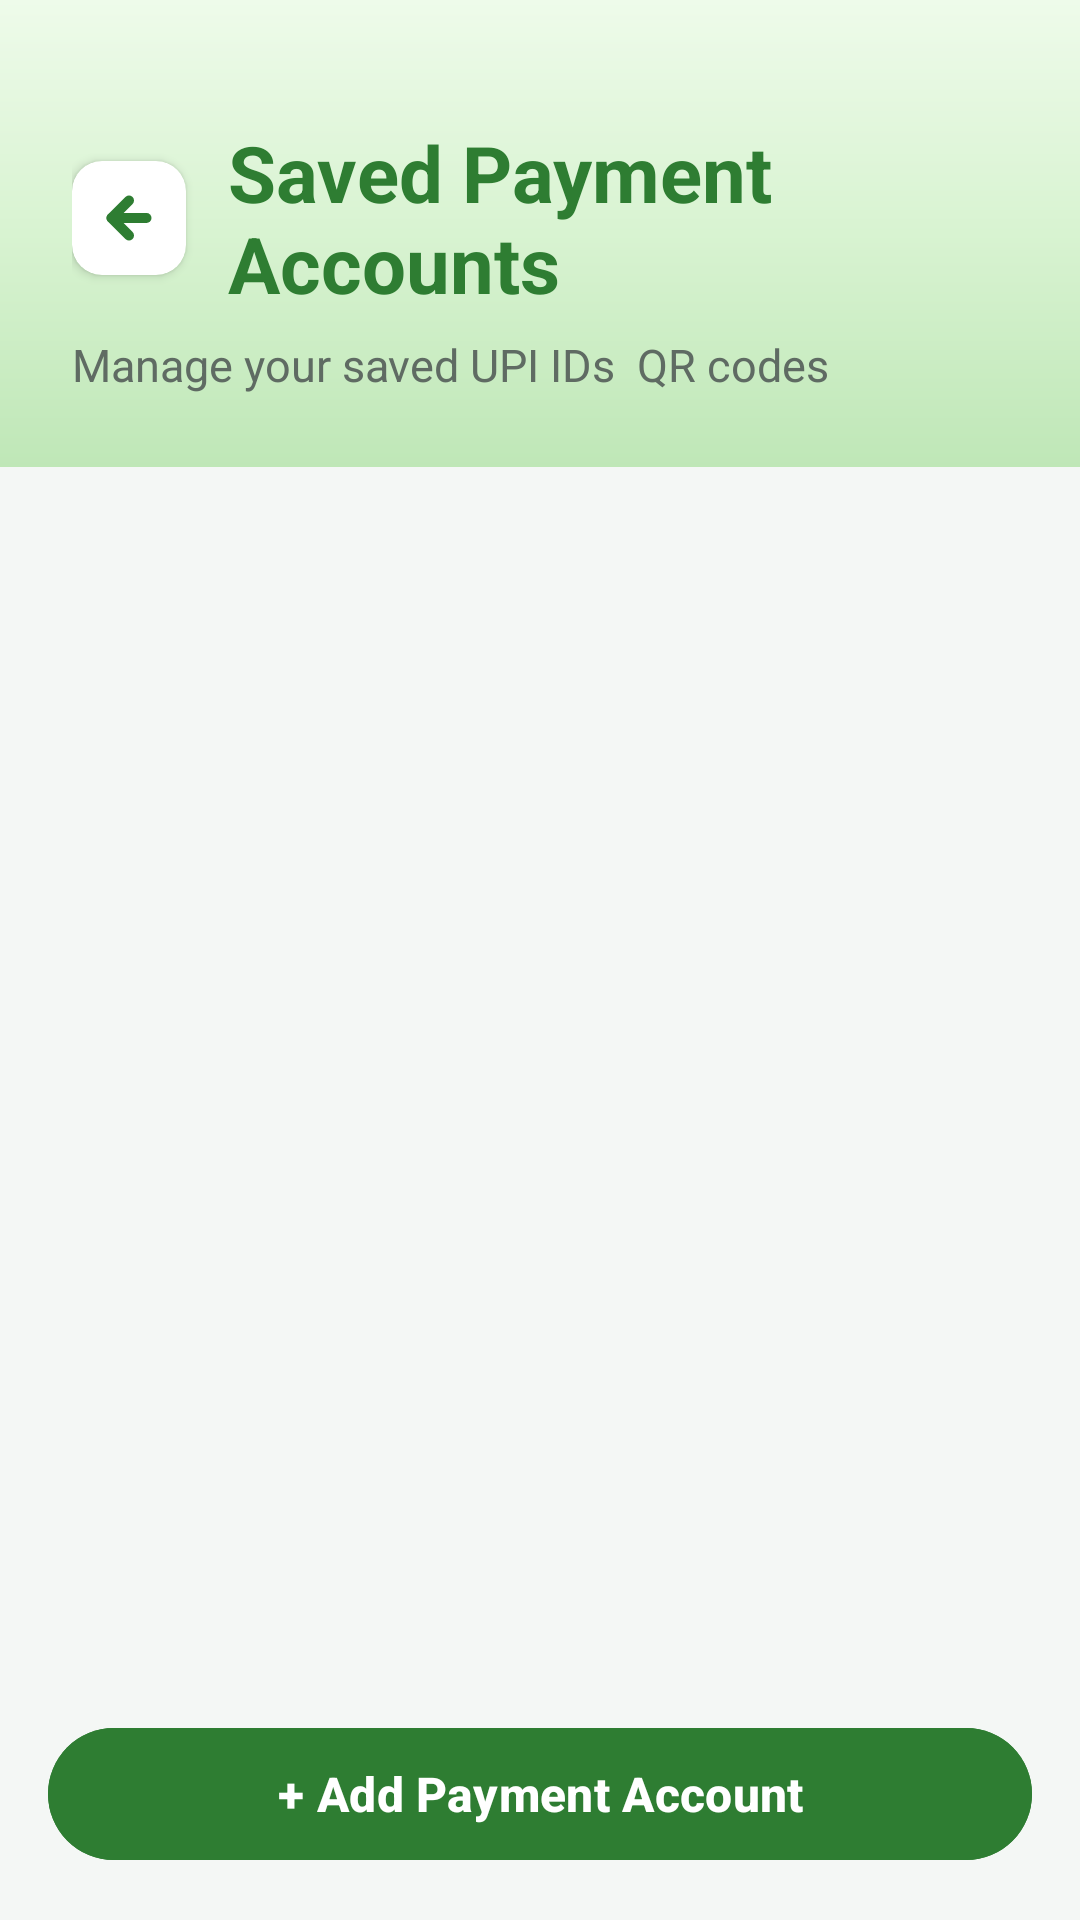

Icons on this 1080*1920 Android screen, each with its box as (x1,y1,x2,y2):
back arrow: (106,195,152,241)
